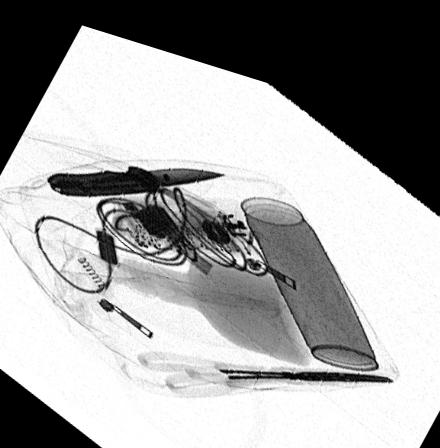Knife: (50, 156, 223, 192)
Scissors: (139, 344, 395, 386)
